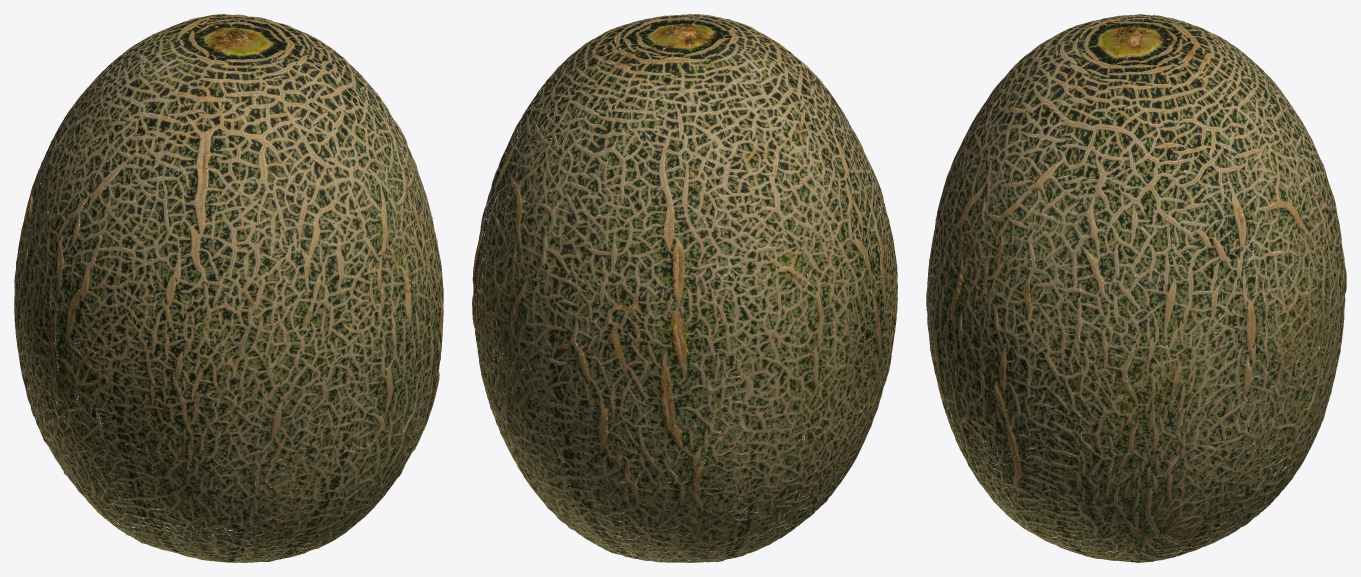
Rendered from melon-transformed.glb.
The picture shows the model from 3 angles, left to right: view 1: azimuth 30°, elevation 25°; view 2: azimuth 150°, elevation 25°; view 3: azimuth 270°, elevation 25°; orthographic projection.
Visible parts, largest first — view 1: Object_5, Object_4, Object_3, Object_2; view 2: Object_3, Object_4, Object_2, Object_5; view 3: Object_3, Object_4, Object_5, Object_2.
Boxes of the visible parts, left/top/right/bottom form: Object_5: left=23, top=93, right=443, bottom=462; Object_4: left=14, top=14, right=443, bottom=561; Object_3: left=18, top=20, right=439, bottom=427; Object_2: left=21, top=374, right=433, bottom=562; Object_3: left=472, top=19, right=896, bottom=462; Object_4: left=472, top=14, right=895, bottom=562; Object_2: left=488, top=381, right=885, bottom=562; Object_5: left=475, top=41, right=897, bottom=453; Object_3: left=1025, top=17, right=1346, bottom=476; Object_4: left=952, top=14, right=1345, bottom=555; Object_5: left=926, top=44, right=1318, bottom=458; Object_2: left=939, top=389, right=1331, bottom=562.
Bounding box in the file's own units: 0.1389 × 0.1825 × 0.1366.
Materials: 4 (4 with a texture image).
